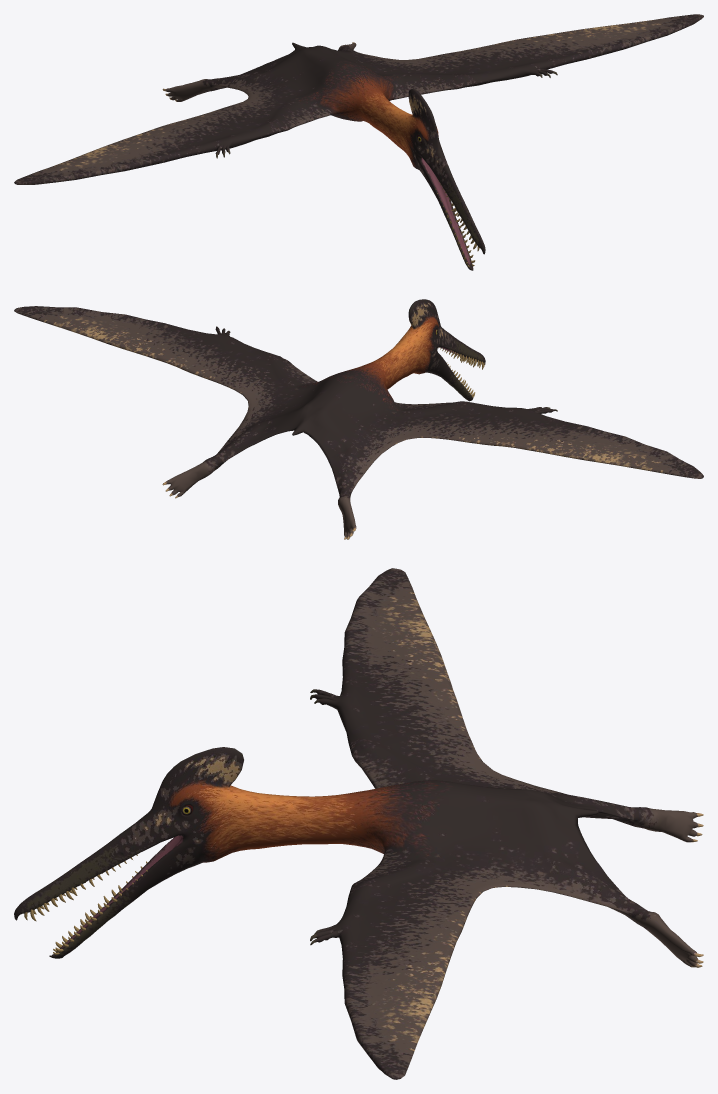
The model's file is Pterodactilo.glb.
3 views of the same model, one above another, from view 1: azimuth 30°, elevation 25°; view 2: azimuth 150°, elevation 25°; view 3: azimuth 270°, elevation 25° (orthographic). The views are drawn at different scales.
Parts seen in each view (by area): view 1: DW_Pterodactilo_Modelo_mesh; view 2: DW_Pterodactilo_Modelo_mesh; view 3: DW_Pterodactilo_Modelo_mesh.
Part boxes in pixels (x1,y1,x2,y2): DW_Pterodactilo_Modelo_mesh: (14,14,703,270); DW_Pterodactilo_Modelo_mesh: (14,299,703,539); DW_Pterodactilo_Modelo_mesh: (14,568,703,1079).
Size of the model in its own units: 1 by 0.1932 by 0.5713.
2 materials, 2 textured.
